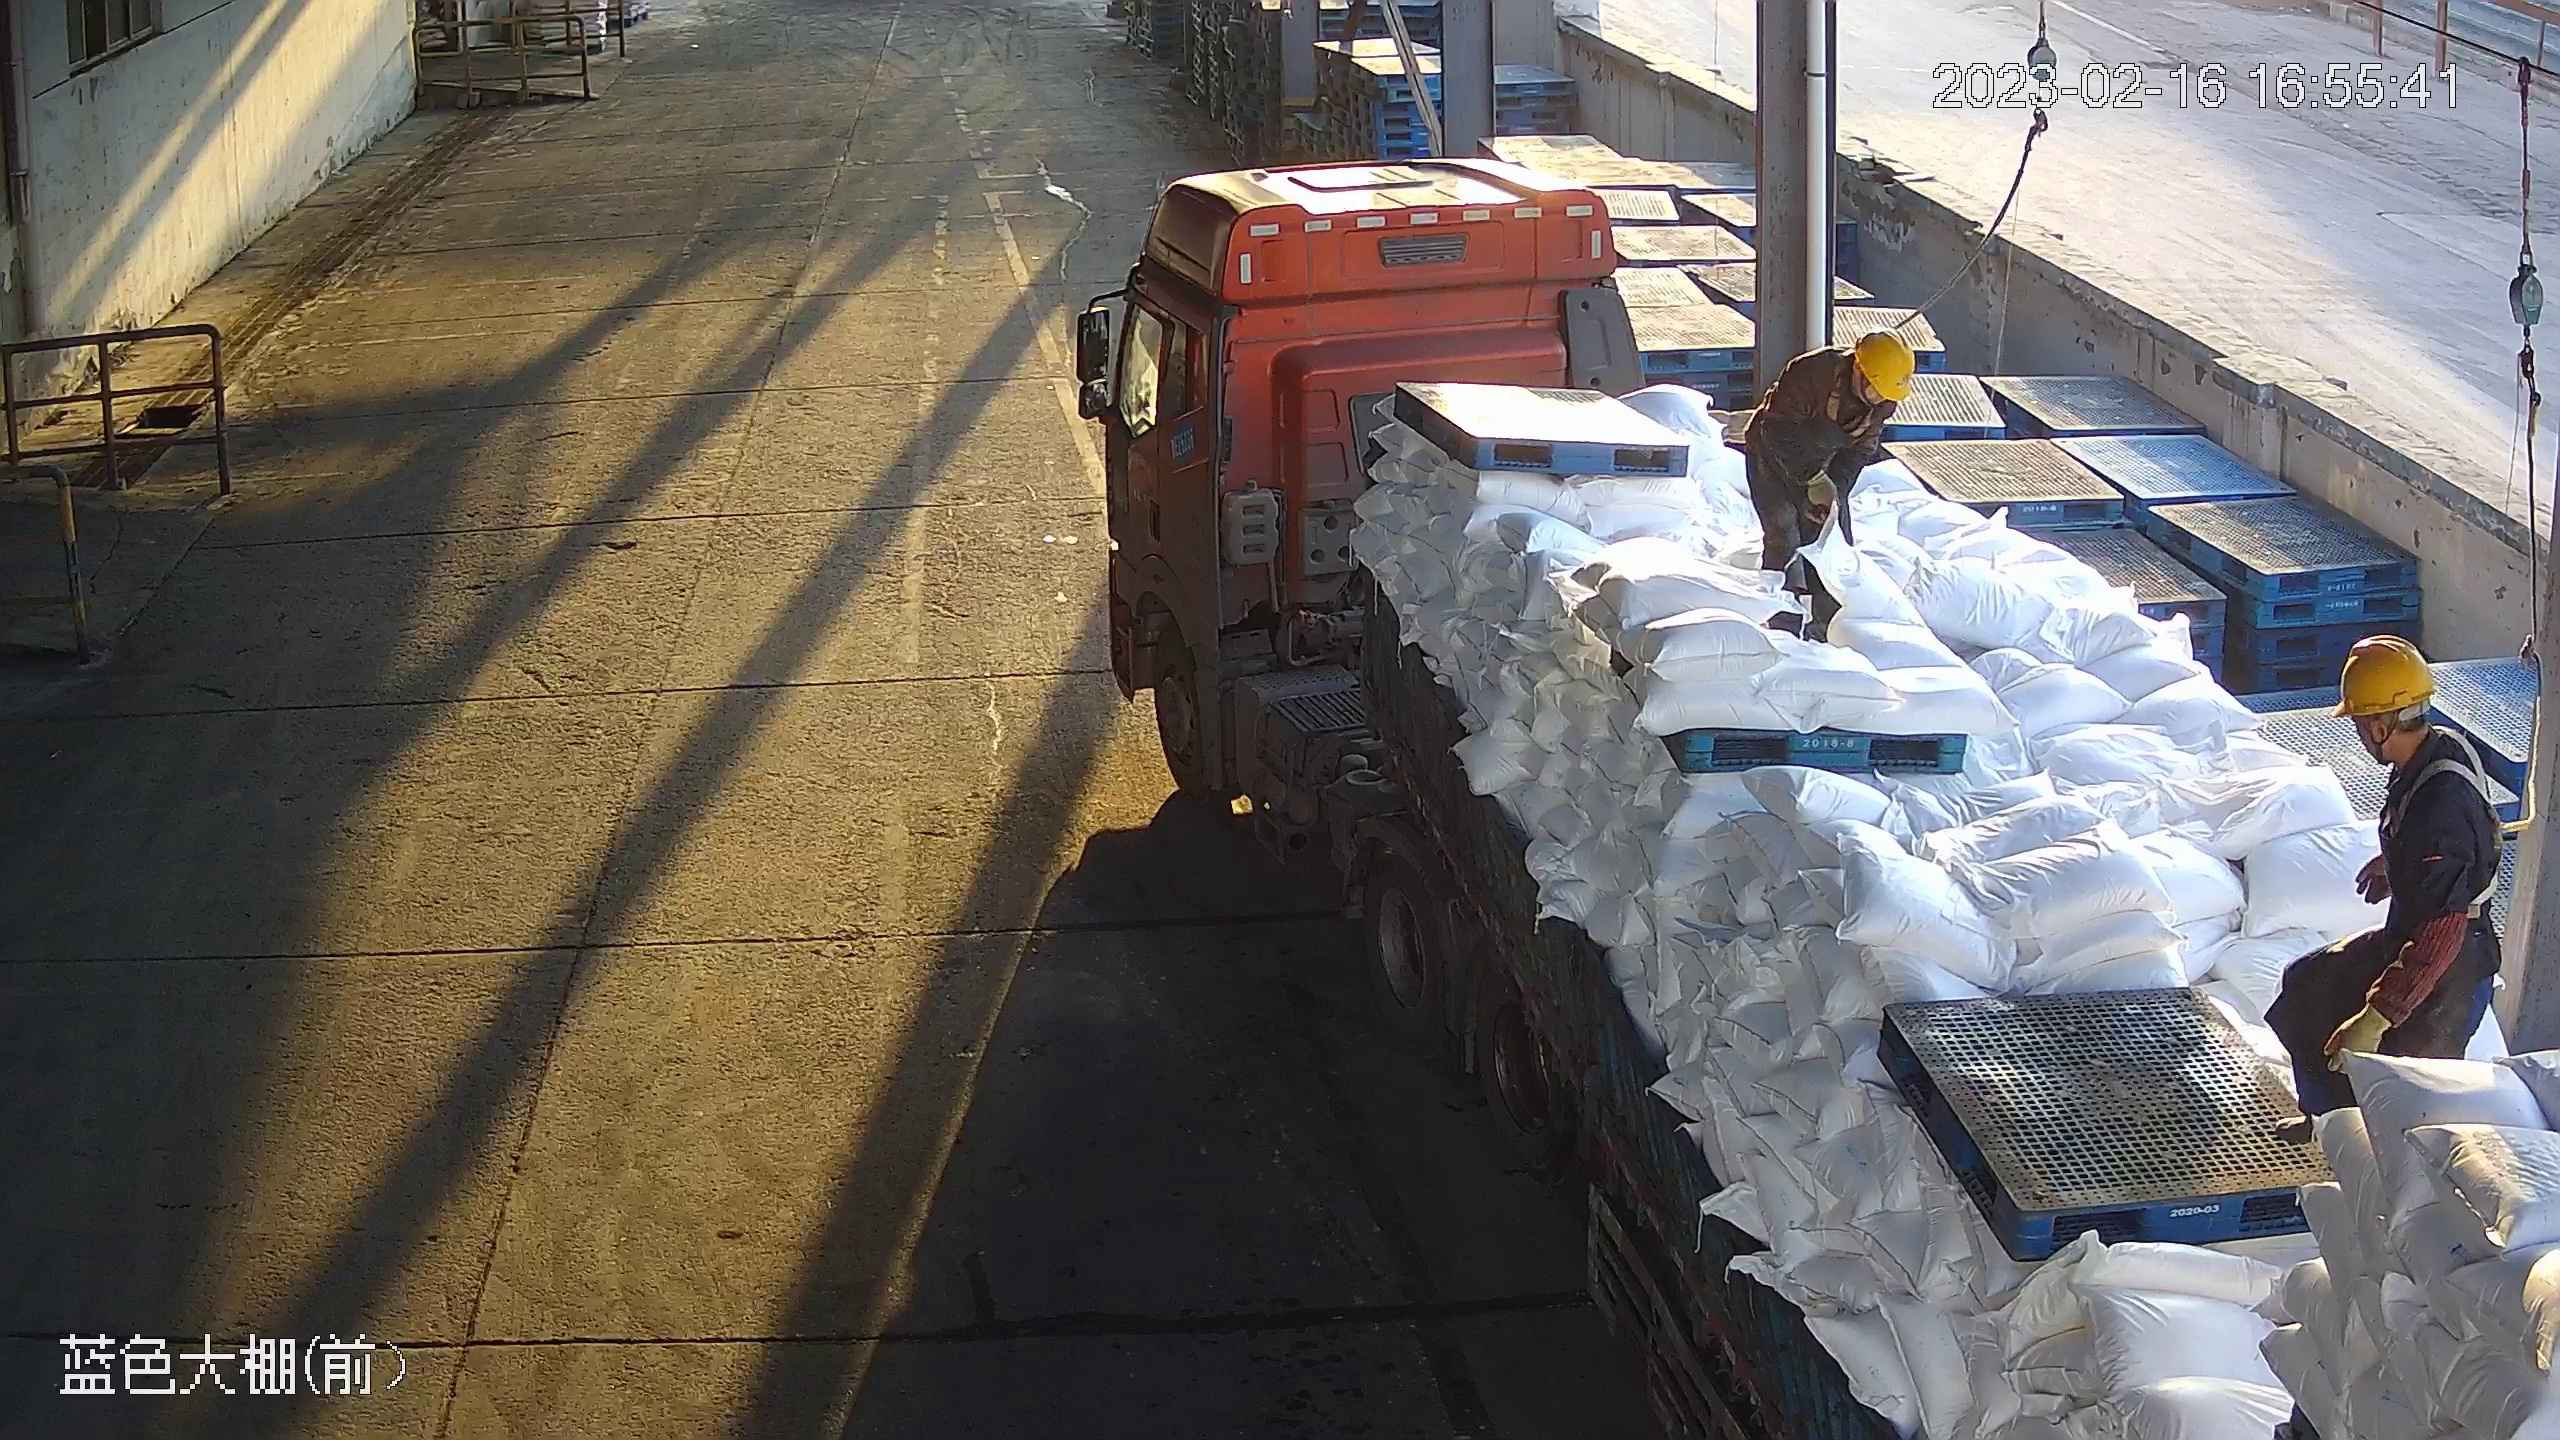belt: (2403, 729, 2516, 914), (1820, 379, 1898, 451)
head: (2290, 623, 2501, 834), (1744, 330, 1916, 451)
helmet: (2325, 629, 2444, 708), (1855, 321, 1922, 414)
people: (2279, 632, 2542, 1143), (1739, 324, 1916, 616)
truck: (1075, 153, 2560, 1440)
